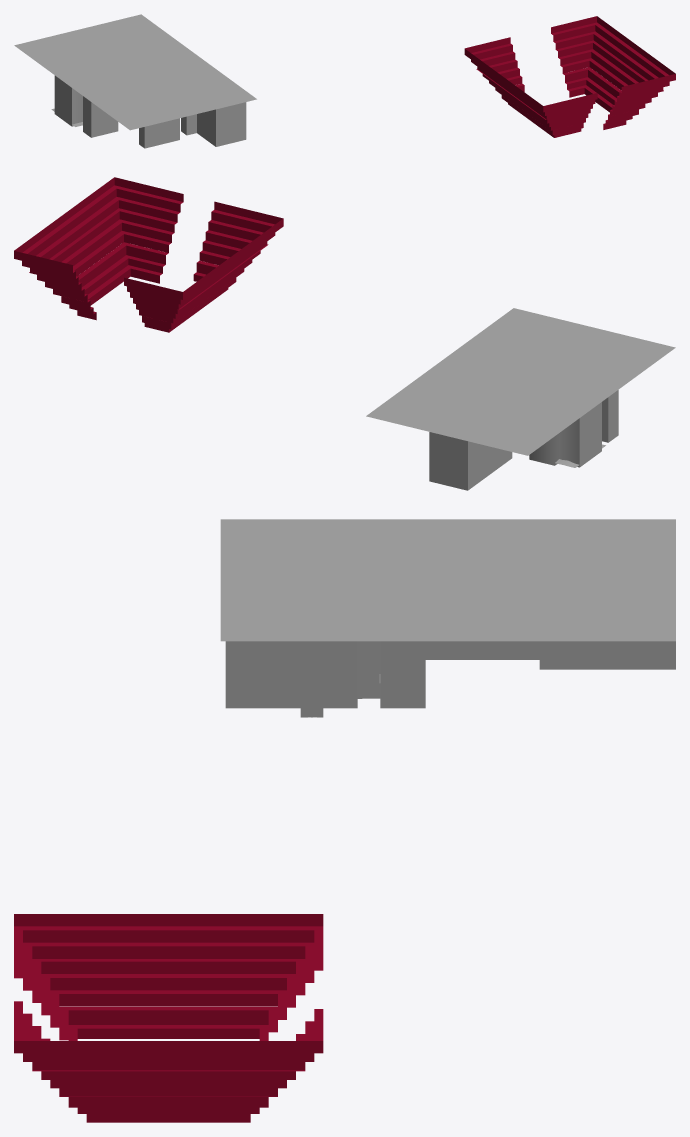
Rendered from Fase_1.fbx.
3 views of the same model, one above another, from view 1: azimuth 30°, elevation 25°; view 2: azimuth 150°, elevation 25°; view 3: azimuth 270°, elevation 25° (orthographic). The views are drawn at different scales.
Visible parts, largest first — view 1: pPlane70, polySurface495; view 2: pPlane70, polySurface495; view 3: pPlane70, polySurface495.
Part boxes in pixels (box(x1,y1,x2,y2)): pPlane70: box(14, 14, 256, 148); polySurface495: box(464, 16, 675, 137); pPlane70: box(366, 308, 675, 490); polySurface495: box(14, 177, 283, 332); pPlane70: box(220, 519, 675, 717); polySurface495: box(14, 914, 323, 1122).
Size of the model in its own units: 491 by 78.03 by 291.
